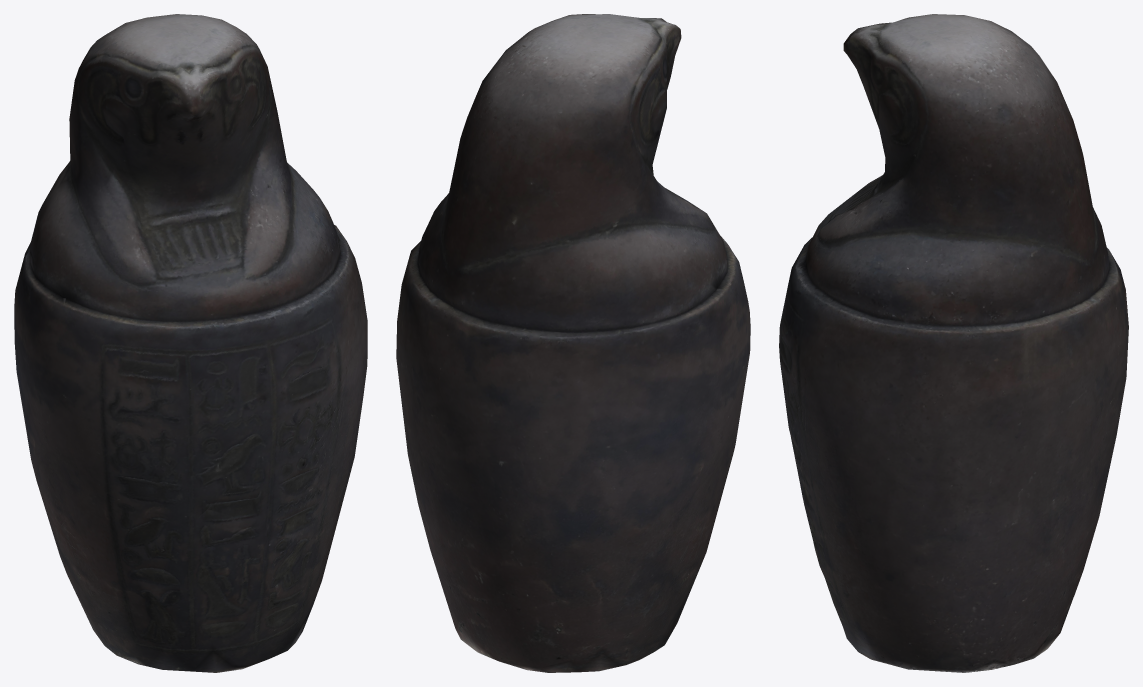
The model's file is Vas_Canopy.fbx.
3 renders of one model, left to right at view 1: azimuth 30°, elevation 25°; view 2: azimuth 150°, elevation 25°; view 3: azimuth 270°, elevation 25°, orthographic. The views are drawn at different scales.
Parts seen in each view (by area): view 1: Vas_Canopy_LOD0; view 2: Vas_Canopy_LOD0; view 3: Vas_Canopy_LOD0.
Part boxes in pixels (bbox=[...]): Vas_Canopy_LOD0: bbox=[14, 14, 367, 672]; Vas_Canopy_LOD0: bbox=[396, 14, 750, 672]; Vas_Canopy_LOD0: bbox=[779, 14, 1128, 672].
Size of what is drawn, in the model's own units: 93.36 by 177 by 94.25.
1 material, 1 textured.
